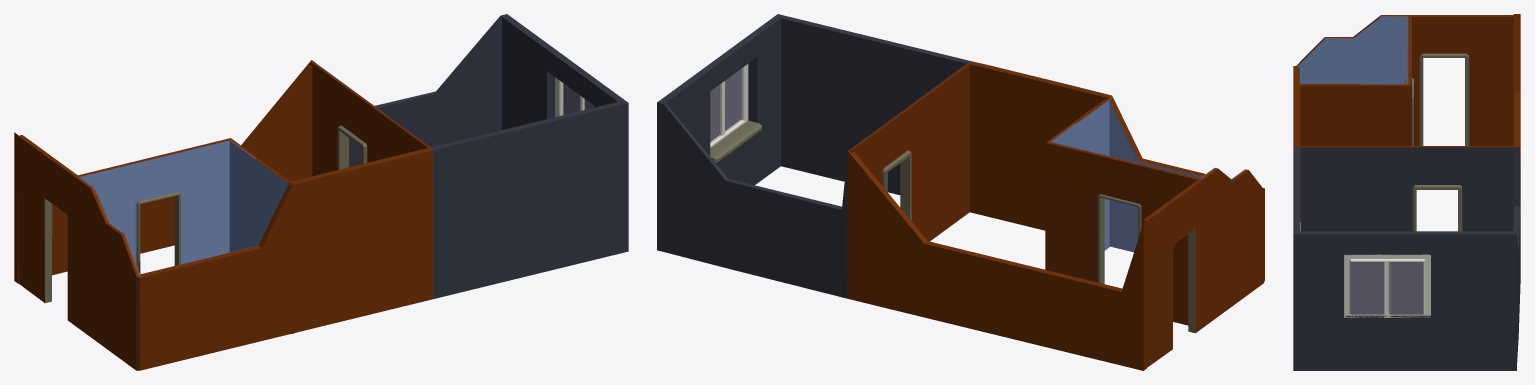
The model's file is Walls.glb.
The picture shows the model from 3 angles, left to right: view 1: azimuth 30°, elevation 25°; view 2: azimuth 150°, elevation 25°; view 3: azimuth 270°, elevation 25°; orthographic projection. The views are drawn at different scales.
Visible parts, largest first — view 1: Plane.007; view 2: Plane.007; view 3: Plane.007.
Boxes of the visible parts, box(x1,y1,x2,y2) form: Plane.007: box(14, 14, 628, 370); Plane.007: box(657, 14, 1264, 370); Plane.007: box(1293, 14, 1520, 370).
Bounding box in the file's own units: 213 × 61.33 × 91.53.
1 material, 1 textured.
